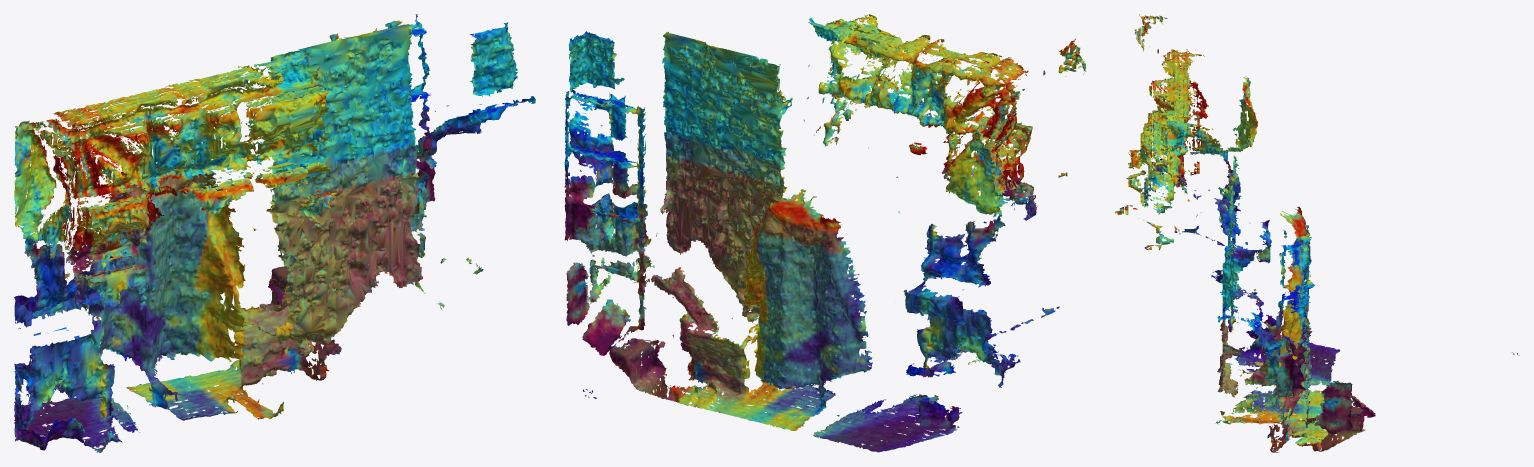
The model's file is mesh_iter_0003.obj.
The picture shows the model from 3 angles, left to right: view 1: azimuth 30°, elevation 25°; view 2: azimuth 150°, elevation 25°; view 3: azimuth 270°, elevation 25°; orthographic projection. The views are drawn at different scales.
Bounding box in the file's own units: 3.03 × 2.16 × 2.54.
